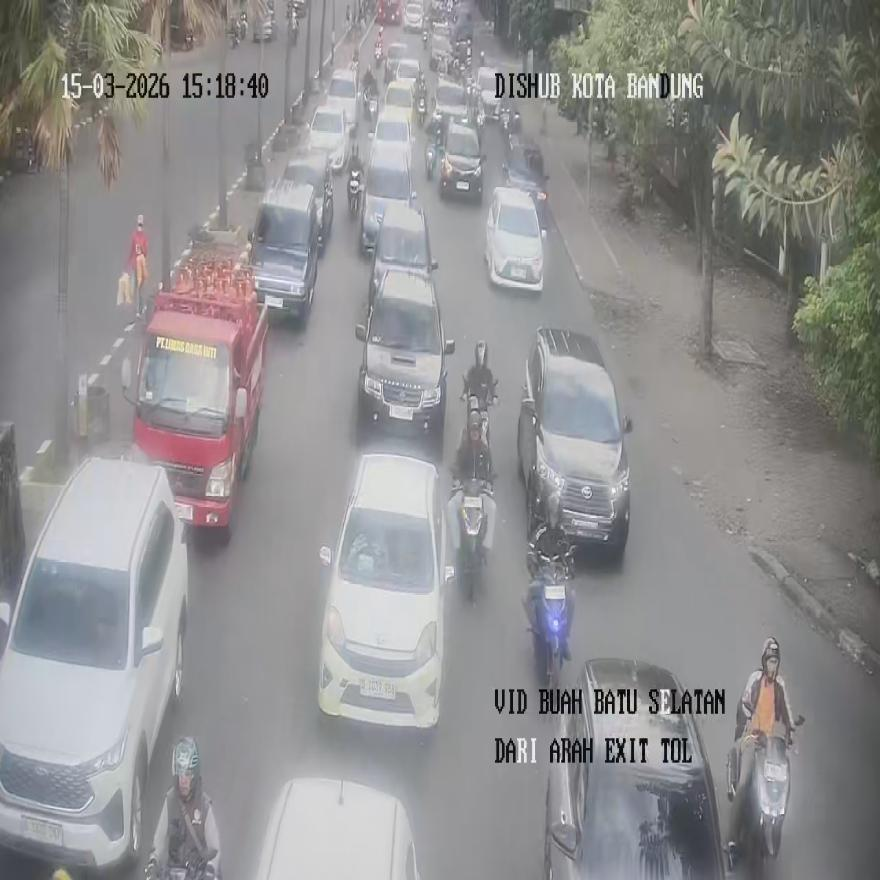Motor: (0, 456, 187, 871), (544, 657, 727, 878), (317, 452, 454, 732), (516, 328, 632, 558), (356, 268, 455, 441), (256, 776, 420, 878), (246, 180, 320, 320), (368, 199, 438, 309), (485, 186, 546, 292), (282, 149, 332, 254)
Truk: (726, 716, 802, 878), (528, 555, 574, 711), (456, 478, 487, 601), (462, 381, 496, 484), (253, 4, 275, 42), (348, 162, 363, 216), (424, 124, 438, 178), (230, 8, 246, 47), (364, 88, 378, 126), (288, 6, 298, 45), (417, 92, 427, 130), (374, 34, 384, 70), (421, 17, 429, 48)
